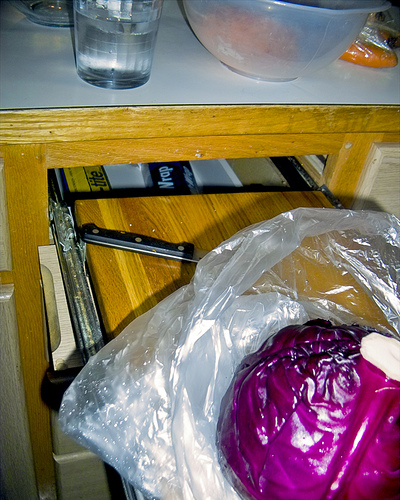cabbage: (216, 317, 398, 498)
